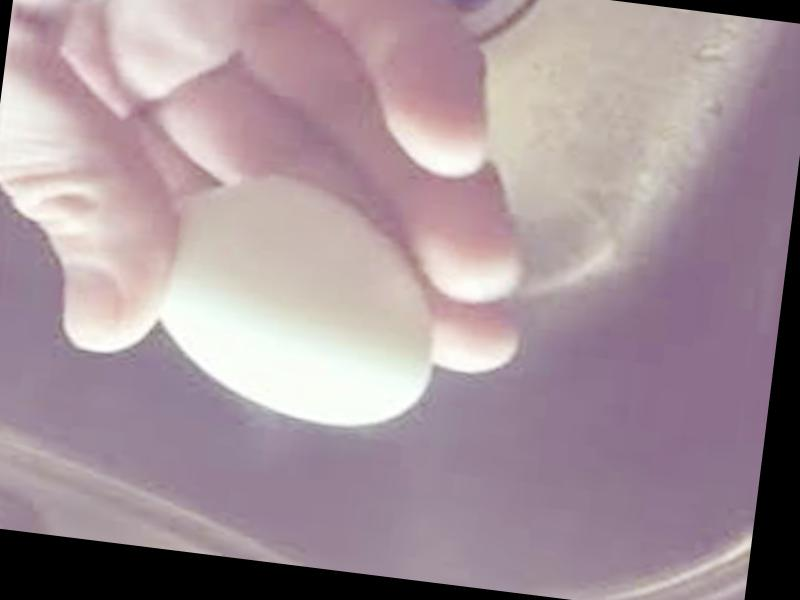Eggs: (146, 168, 452, 436)
